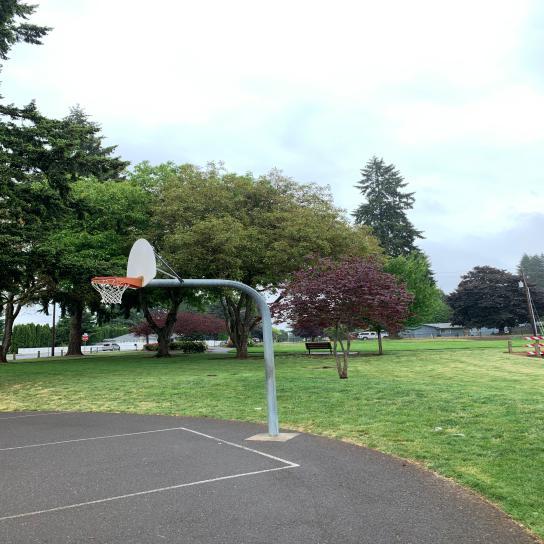basketball-hoop: (88, 276, 132, 306)
